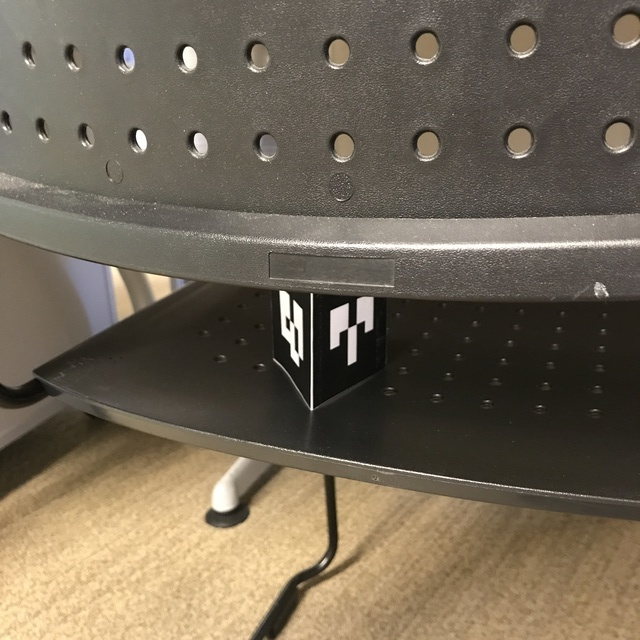ARTag: (272, 286, 386, 413)
